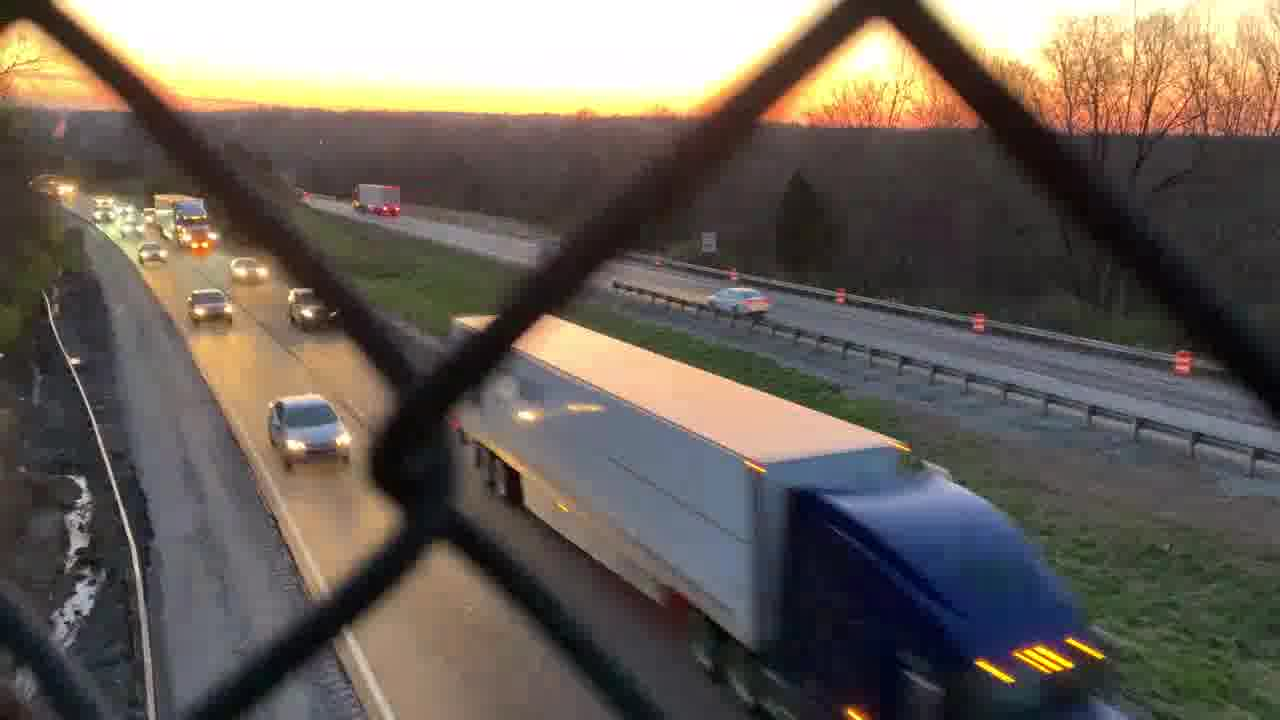heavyTruck: (444, 312, 1139, 720), (151, 191, 217, 252), (349, 178, 407, 218)
smallCar: (267, 395, 357, 465), (703, 288, 771, 315)
